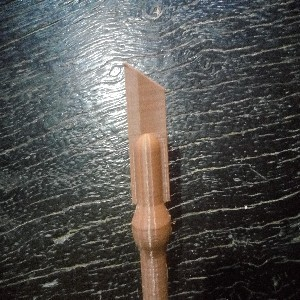cutter: (121, 62, 174, 300)
